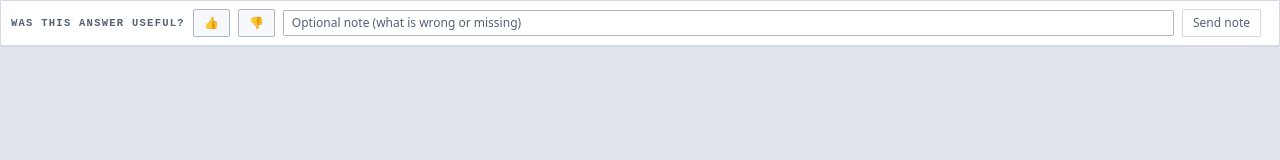
Test: FeedbackBar › says when the vote fails
Click the button with test id "feedback-down" at (256, 23), box [238, 9, 275, 37]
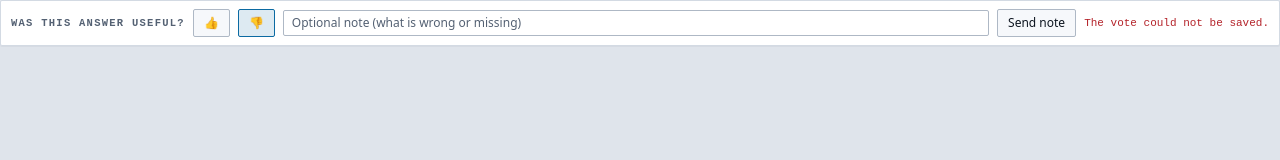
Check: the text "The vote could not be saved." is shown, box [1084, 16, 1269, 30]
